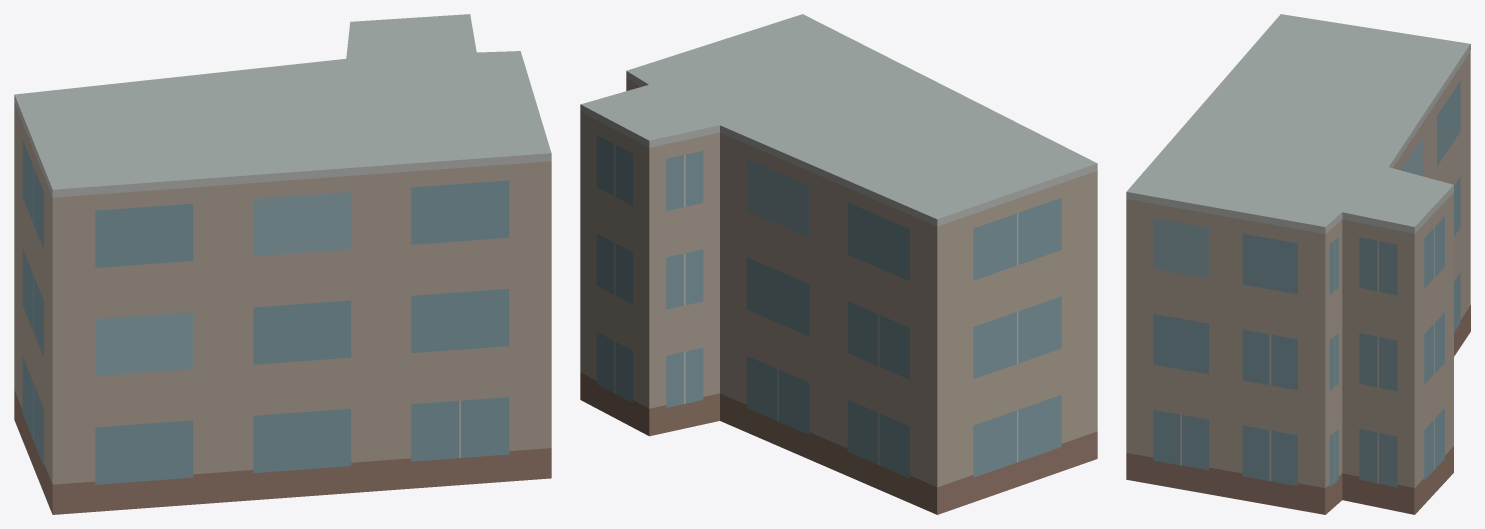
Rendered from survey-upis-32500797.glb.
The picture shows the model from 3 angles, left to right: view 1: azimuth 30°, elevation 25°; view 2: azimuth 150°, elevation 25°; view 3: azimuth 270°, elevation 25°; orthographic projection. The views are drawn at different scales.
Parts seen in each view (by area): view 1: survey-upis-32500797.tmp; view 2: survey-upis-32500797.tmp; view 3: survey-upis-32500797.tmp.
Boxes of the visible parts, box(x1,y1,x2,y2) form: survey-upis-32500797.tmp: box(14, 14, 551, 514); survey-upis-32500797.tmp: box(580, 14, 1097, 514); survey-upis-32500797.tmp: box(1126, 14, 1470, 514).
Bounding box in the file's own units: 15.89 × 10 × 10.85.
